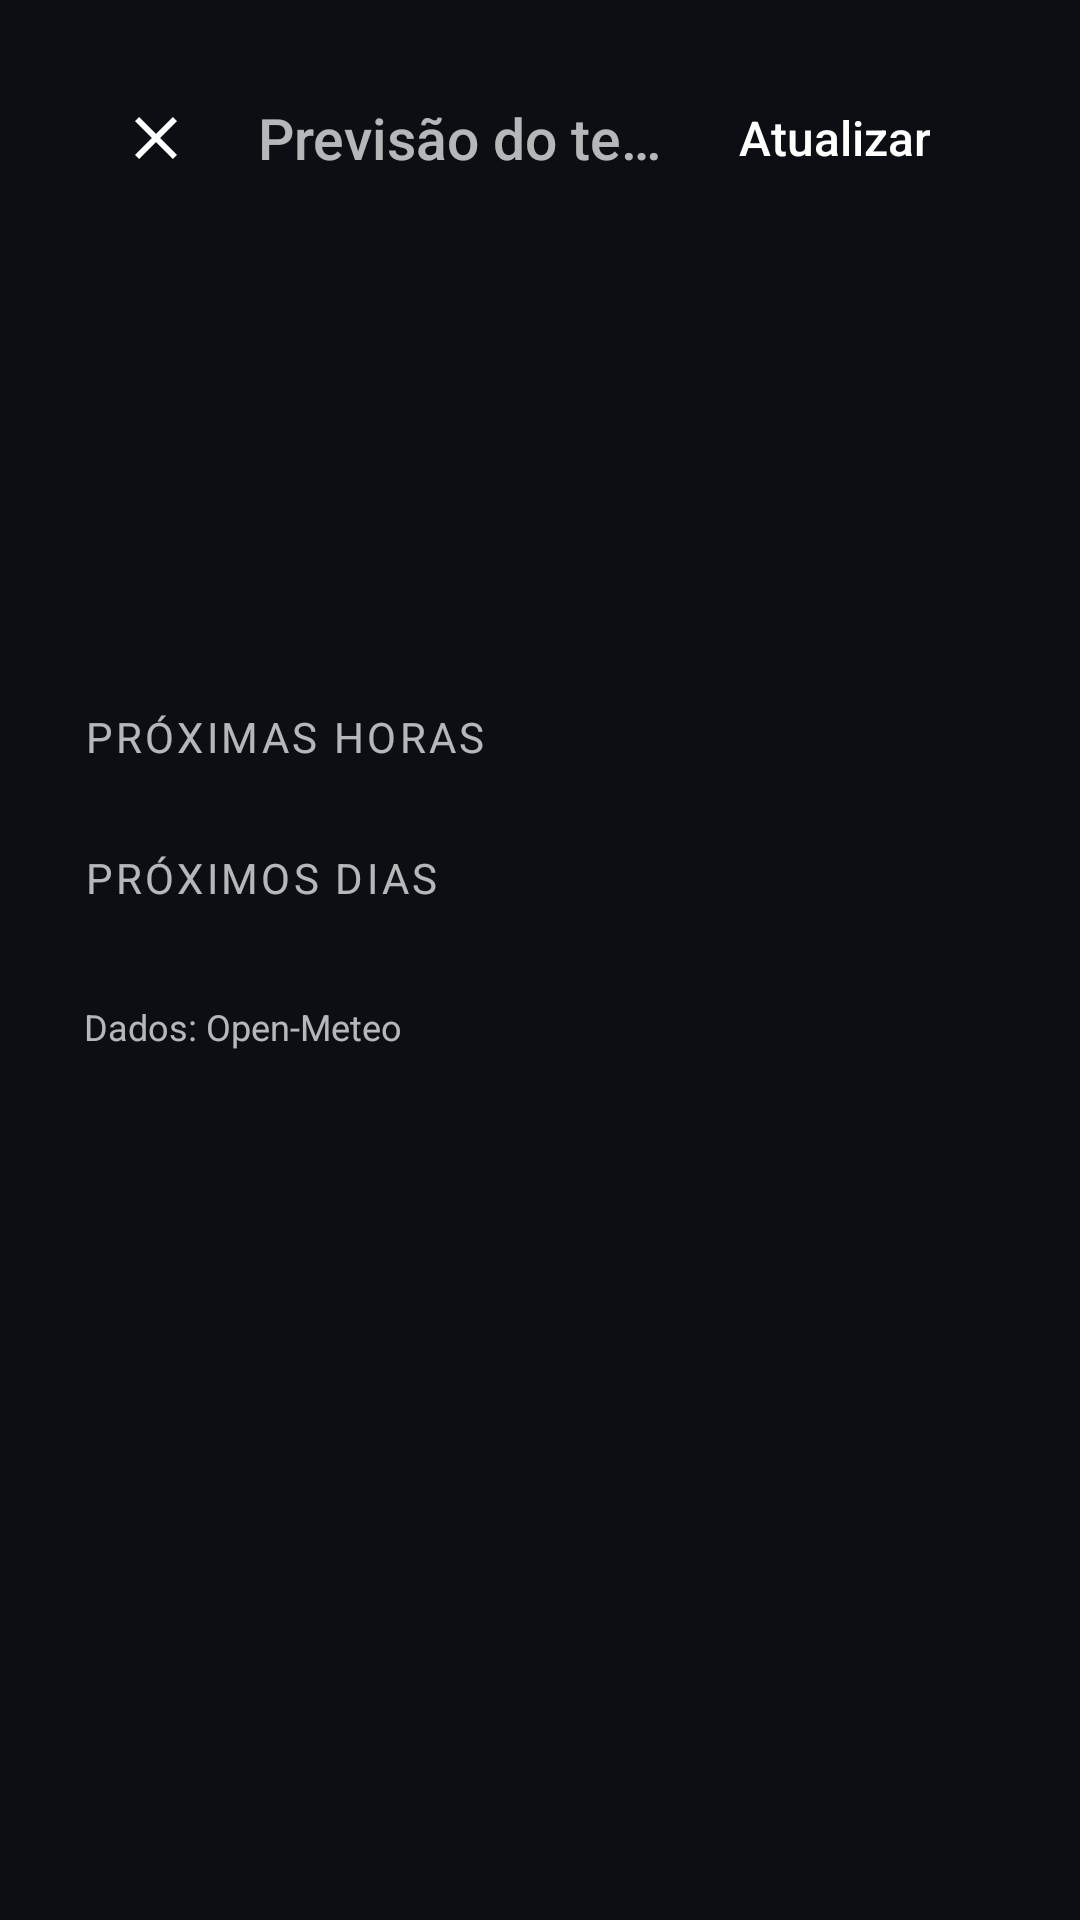

Where icons sit on this 1080×1920 app screen, as (x1, y1, x2, y2):
Fechar: (135, 117, 177, 159)
